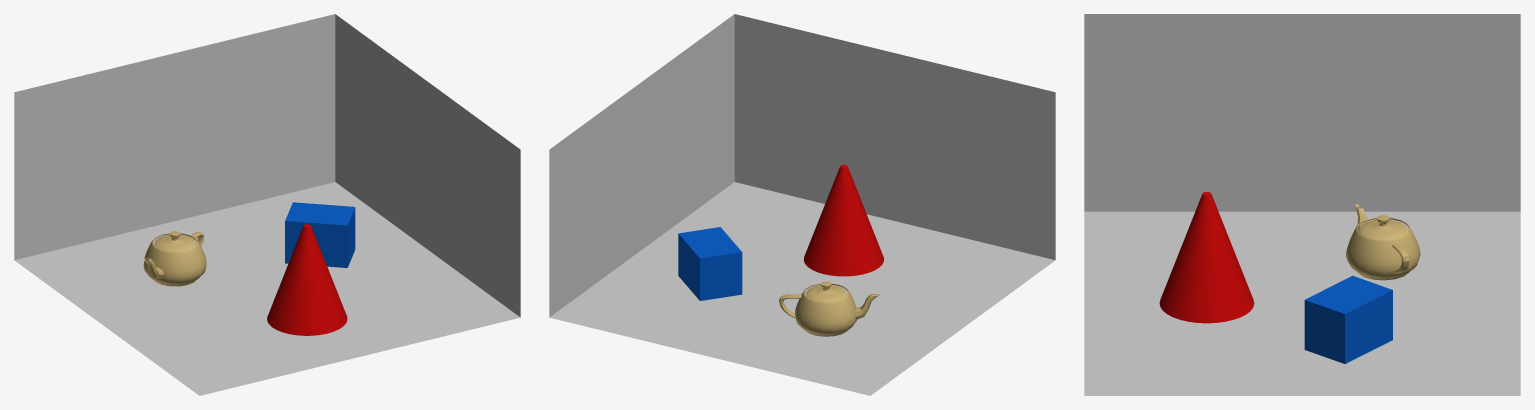
The model's file is luces.glb.
3 views of the same model, side by side, from view 1: azimuth 30°, elevation 25°; view 2: azimuth 150°, elevation 25°; view 3: azimuth 270°, elevation 25° (orthographic). The views are drawn at different scales.
Parts seen in each view (by area): view 1: Mesh001, Cone001, Box001, tetera; view 2: Mesh001, Cone001, Box001, tetera; view 3: Mesh001, Cone001, Box001, tetera.
Part boxes in pixels (box(x1,y1,x2,y2)): Mesh001: box(14, 14, 520, 395); Cone001: box(267, 224, 347, 335); Box001: box(285, 202, 355, 267); tetera: box(143, 231, 206, 286); Mesh001: box(549, 14, 1055, 395); Cone001: box(803, 164, 883, 276); Box001: box(678, 227, 742, 300); tetera: box(779, 281, 880, 336); Mesh001: box(1084, 14, 1520, 395); Cone001: box(1159, 192, 1254, 323); Box001: box(1304, 275, 1392, 363); tetera: box(1346, 204, 1420, 280).
Bounding box in the file's own units: 100 × 50 × 100.
